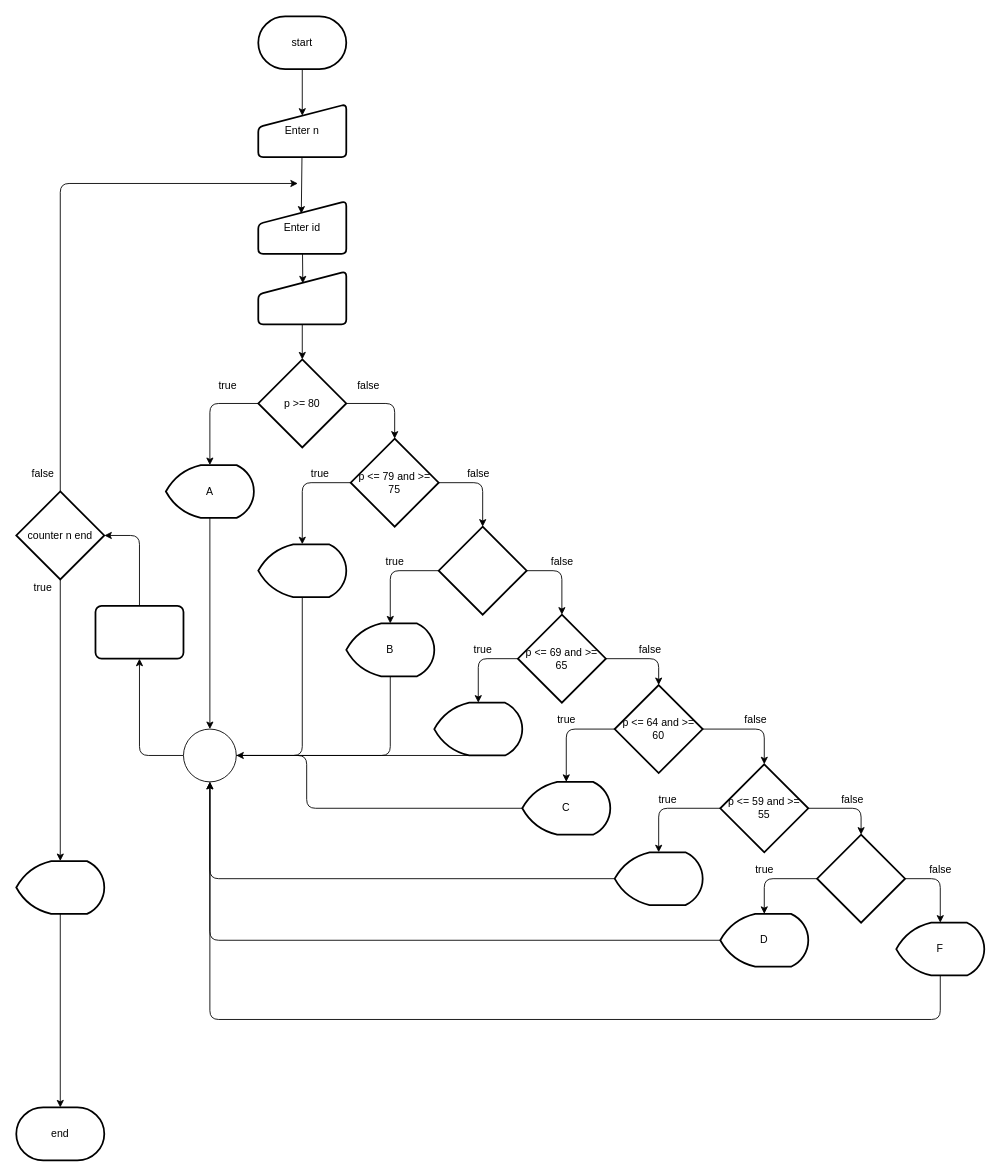
The diagram is 1000 pixels wide and 1176 high, and some of its shapes have lost their labels. The shapes that lost their labels are listed below. From the top down, each one's centre as x and y in pixels, then its label:
At point 302,297: "Enter p".
At point 302,570: "B+".
At point 482,570: "p <= 74 and >= 70".
At point 139,632: "append score".
At point 478,728: "C+".
At point 60,887: "score".
At point 658,878: "D+".
At point 861,878: "p <= 54 and >= 50".
